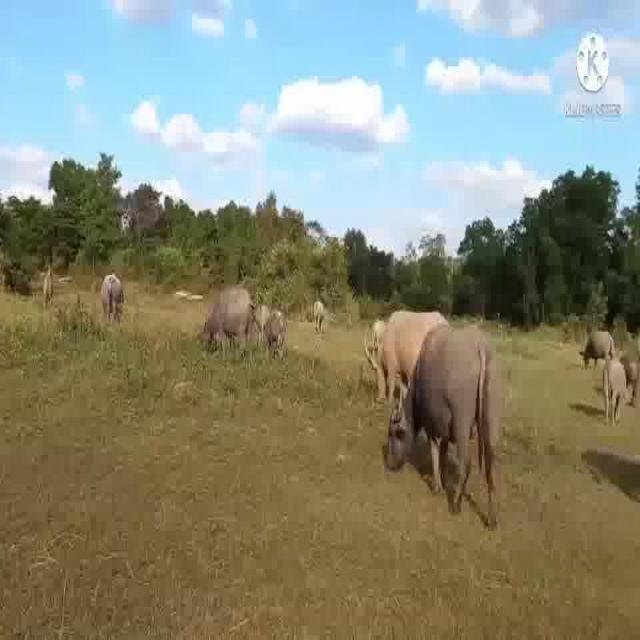buffalo: (385, 311, 501, 525), (198, 282, 256, 364), (578, 326, 618, 374)
